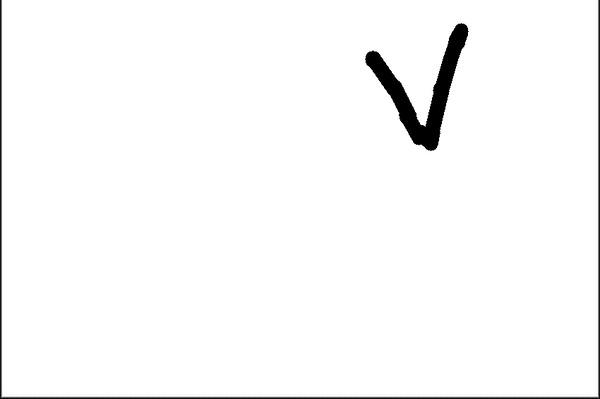V: (346, 22, 490, 158)
